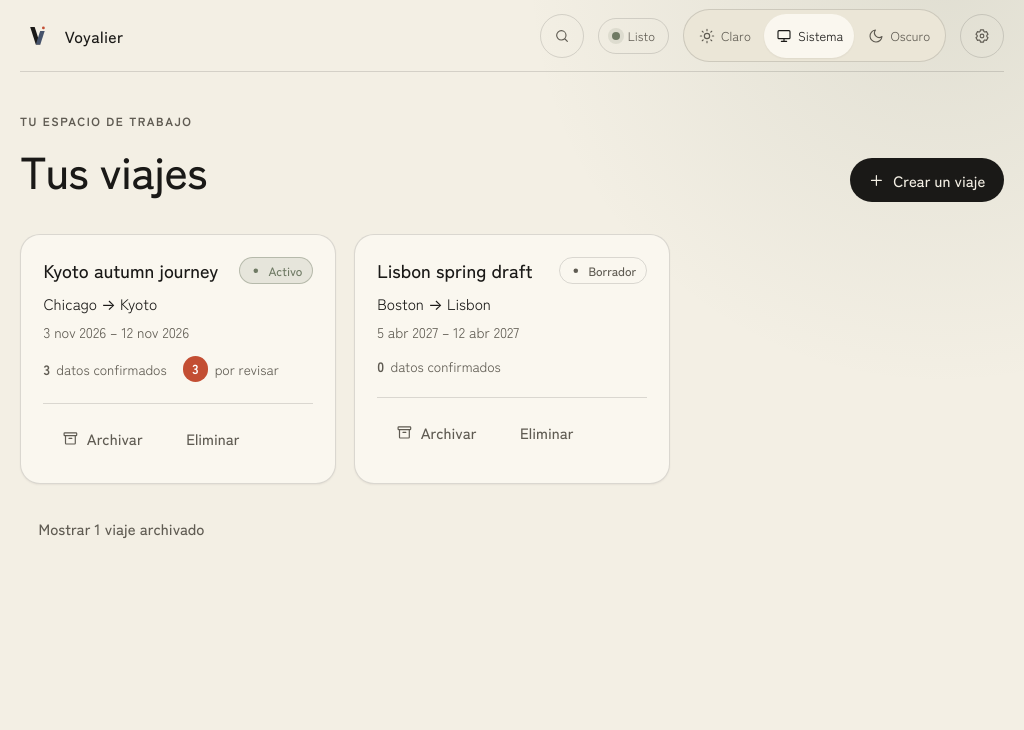
Test: Today panel › localizes product-owned item labels while preserving source text
Click the button with aria-label "Abrir Kyoto autumn journey" at (131, 270), box x1=43 y1=257 x2=218 y2=283
(page scrolled)
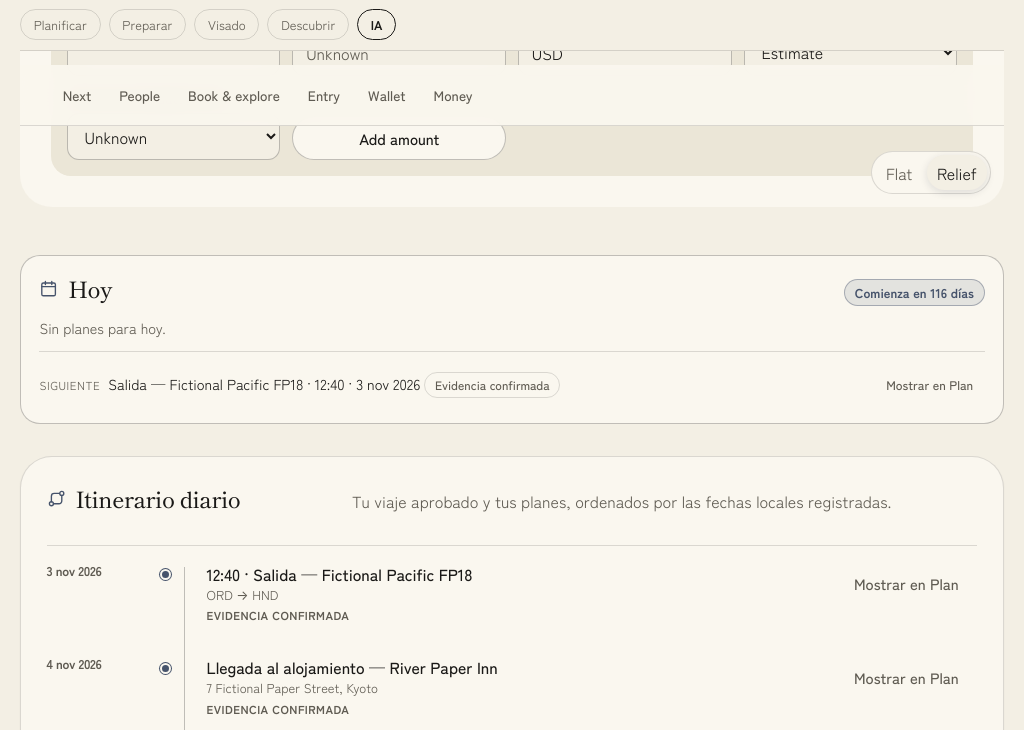
Expected: the text "Evidencia confirmada" in the row of "Salida — Fictional Pacific FP18 · 12:40" is shown, x1=435 y1=376 x2=550 y2=394
Expected: the button "Mostrar en Plan" in the row of "Salida — Fictional Pacific FP18 · 12:40" is shown, x1=875 y1=363 x2=985 y2=407
